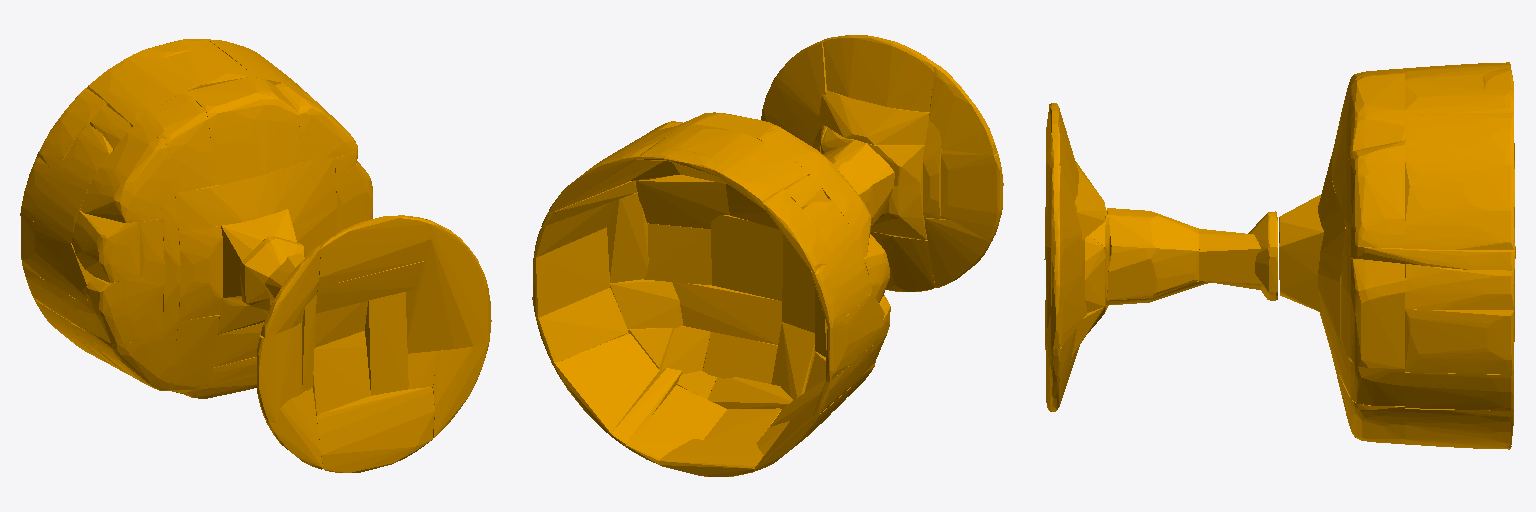
The robot description file, URDF, robot "glass-small":
<?xml version="1.0" ?>
<robot name="glass-small">
  <link name="baseLink">
    <contact>
      <lateral_friction value="1.0"/>
      <inertia_scaling value="3.0"/>
    </contact>
    <inertial>
      <origin rpy="0 0 0" xyz="0.000 0.000 0.000"/>
       <mass value=".1"/>
       <inertia ixx="1" ixy="0.0" ixz="0.0" iyy="1" iyz="0.0" izz="1"/>
    </inertial>
    <visual>
      <origin rpy="0 0 0" xyz="0 0 0"/>
      <geometry>
        <mesh filename="glass/glass-small_4.obj" scale="1.0 1.0 1.0"/>
      </geometry>
    </visual>
    <collision>
      <origin rpy="0 0 0" xyz="0 0 0"/>
      <geometry>
        <mesh filename="../collision/glass/glass-small_4.obj" scale="1.0 1.0 1.0"/>
      </geometry>
    </collision>
  </link>
</robot>
        

--- Facts derived from the render (not from the file) ---
3 views of the same robot in one strip: view 1: azimuth 30°, elevation 25°; view 2: azimuth 150°, elevation 25°; view 3: azimuth 270°, elevation 25° (orthographic).
Robot: glass-small — 1 links, 0 joints (none); root link baseLink; default pose: every joint at zero.
Links seen in each view (by area): view 1: baseLink; view 2: baseLink; view 3: baseLink.
Link boxes in pixels (x1=…): baseLink: x1=20, y1=39, x2=491, y2=472; baseLink: x1=532, y1=35, x2=1003, y2=476; baseLink: x1=1044, y1=62, x2=1515, y2=449.
Size in the robot's own frame: 0.0717 by 0.0876 by 0.0717 metres.
Meshes: 1 distinct files referenced, 1 mesh visuals loaded (1 OBJ).